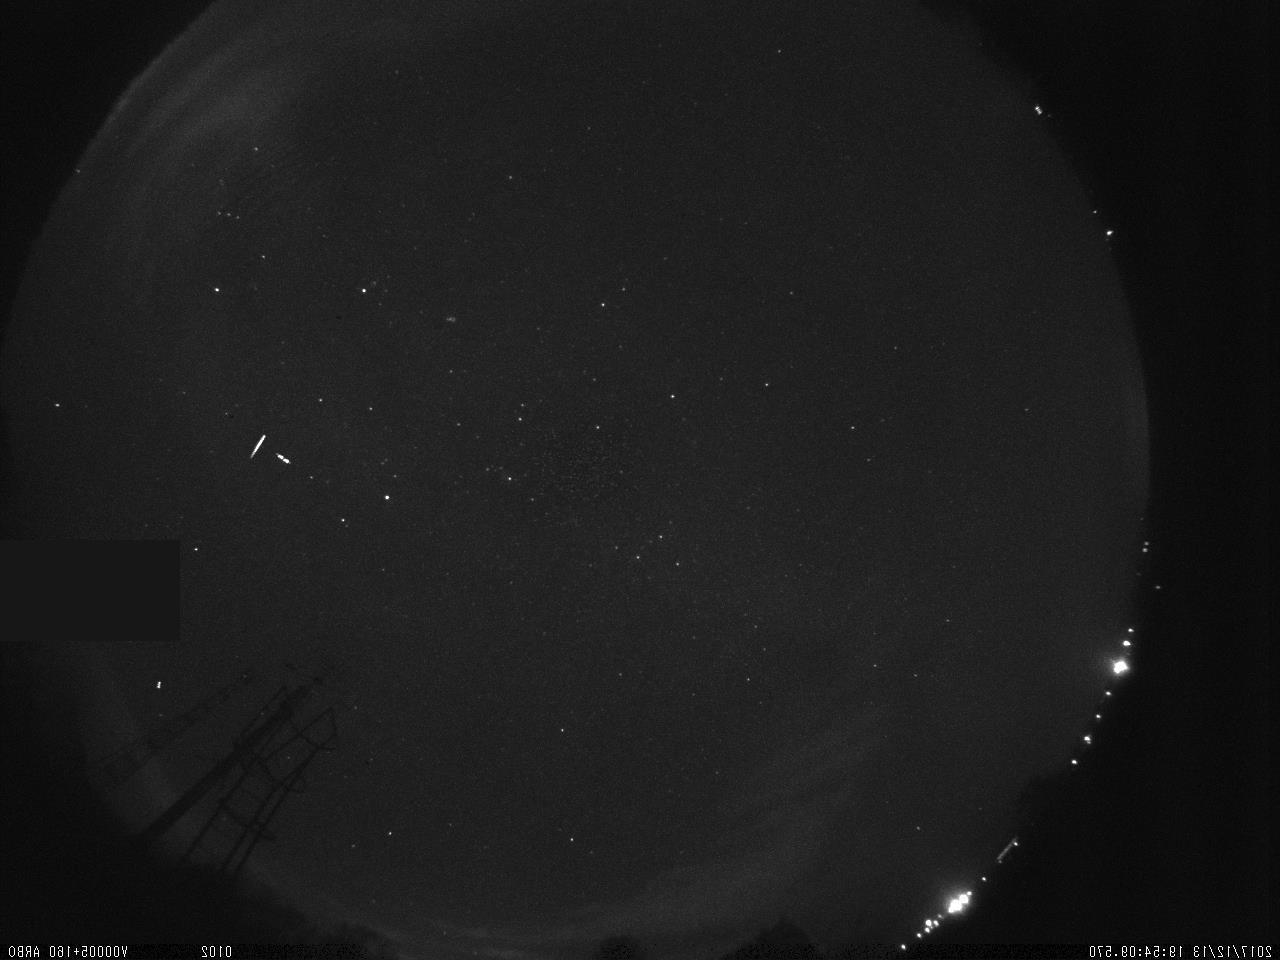meteor: (248, 430, 269, 463)
satelite: (273, 448, 294, 473)
